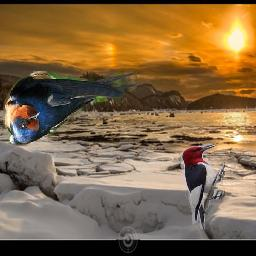Swallow: (3, 72, 137, 147)
Woodpecker: (181, 143, 225, 229)
